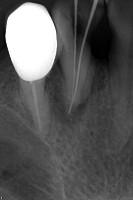Furcation Involvement: (45, 64, 87, 122)
